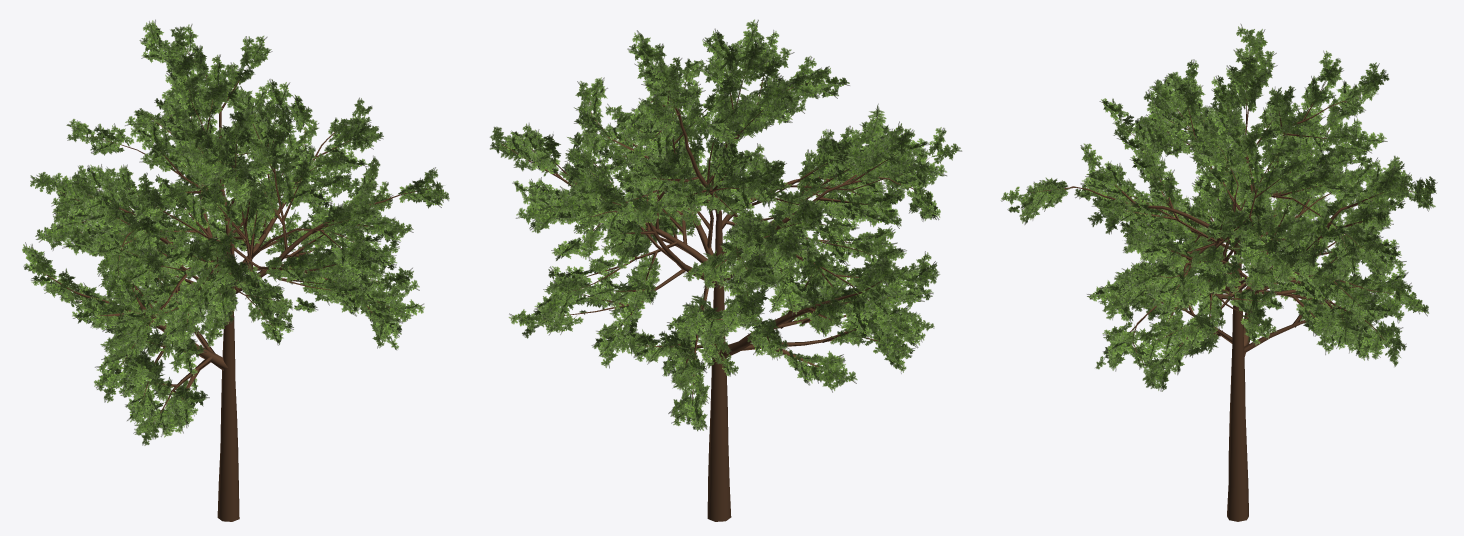
Rendered from oak-b.glb.
3 renders of one model, left to right at view 1: azimuth 30°, elevation 25°; view 2: azimuth 150°, elevation 25°; view 3: azimuth 270°, elevation 25°, orthographic. The views are drawn at different scales.
Size of the model in its own units: 7.47 by 9.21 by 7.89.
2 materials, 1 textured.
